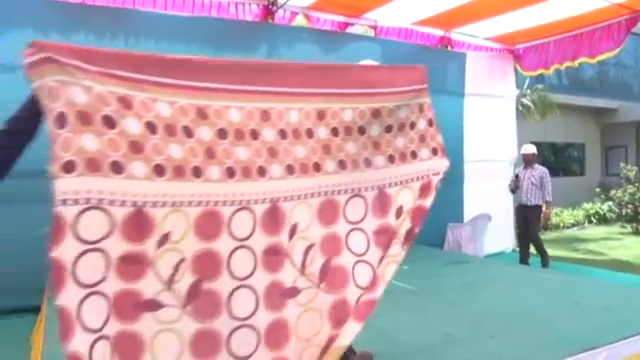helmet: (516, 141, 539, 156)
helmet_on: (518, 142, 538, 169)
person: (506, 142, 555, 271)
